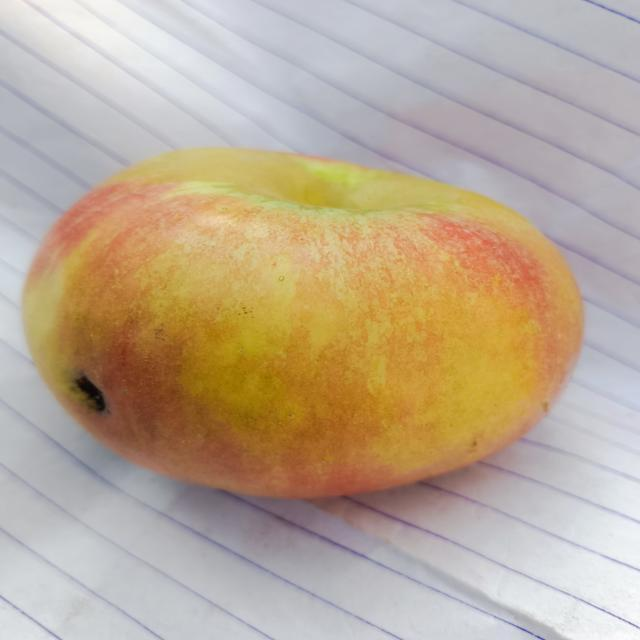Fresh Apple: (21, 142, 590, 492)
